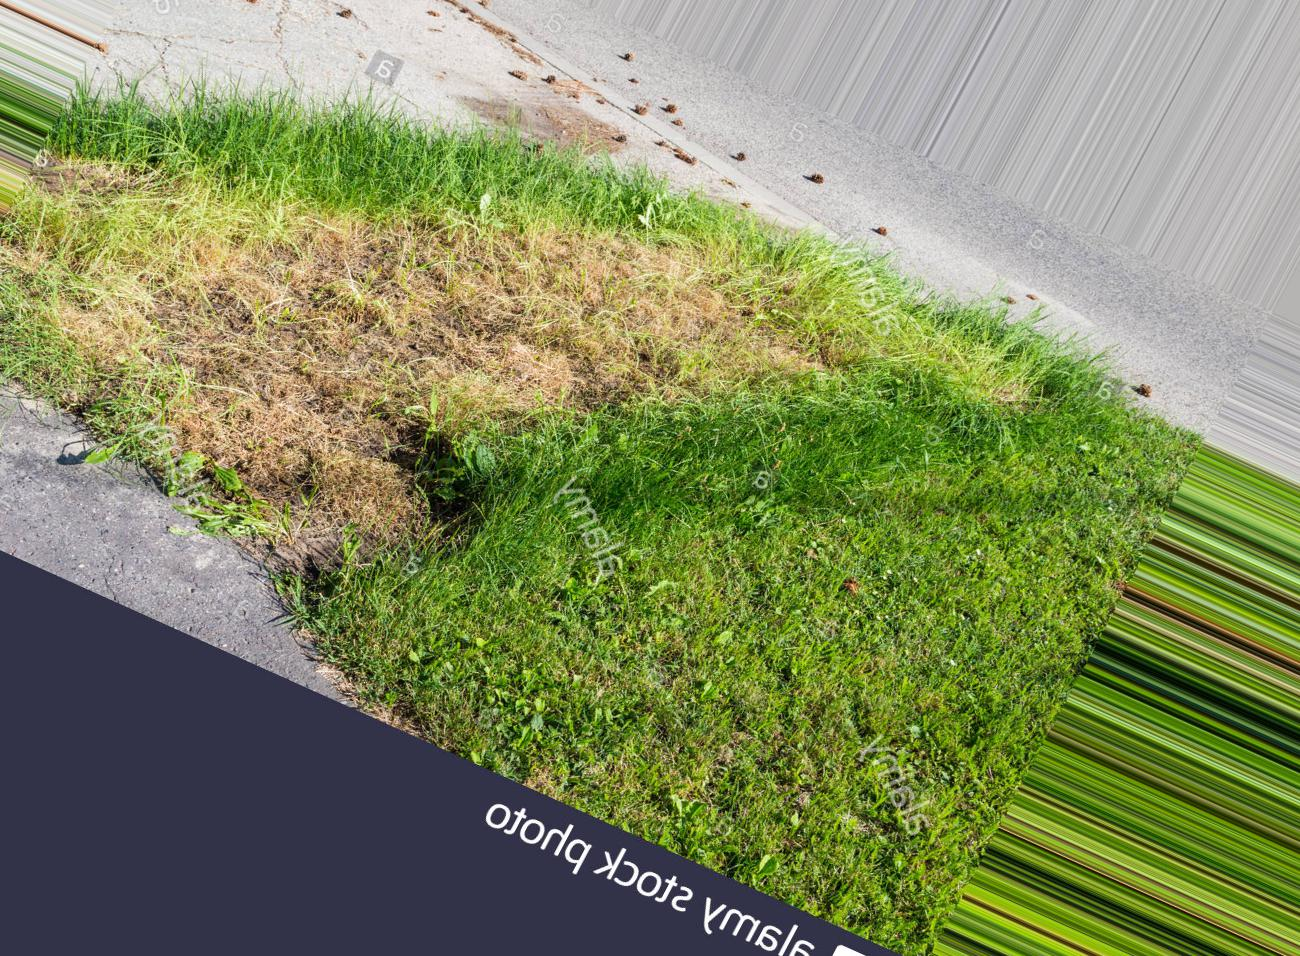patch: (192, 265, 747, 422)
